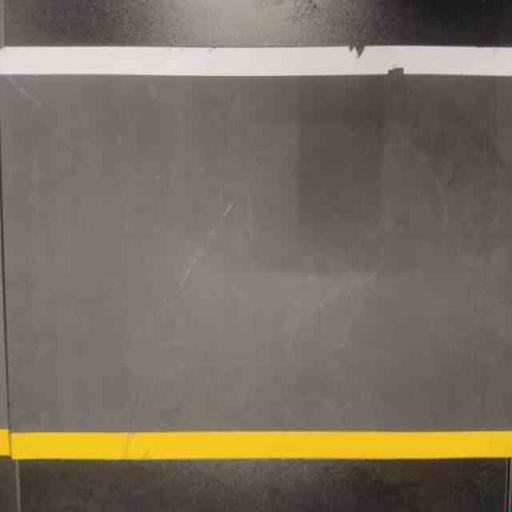straight: (3, 40, 512, 464)
